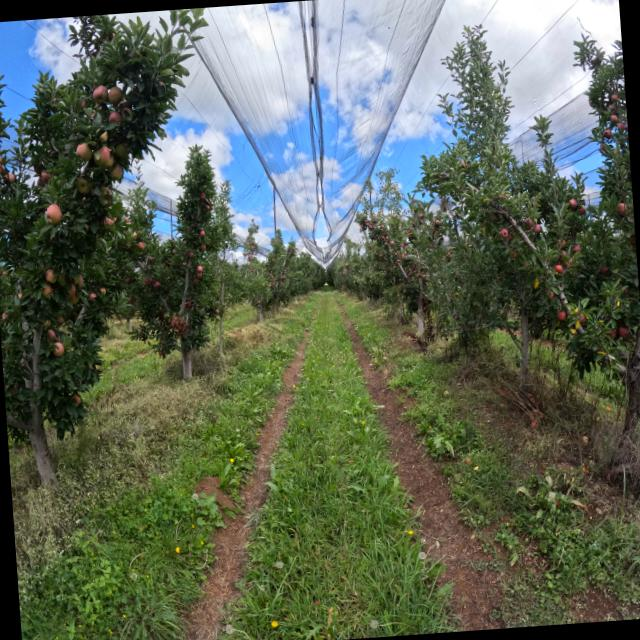-FireBlight-: (169, 316, 185, 336)
